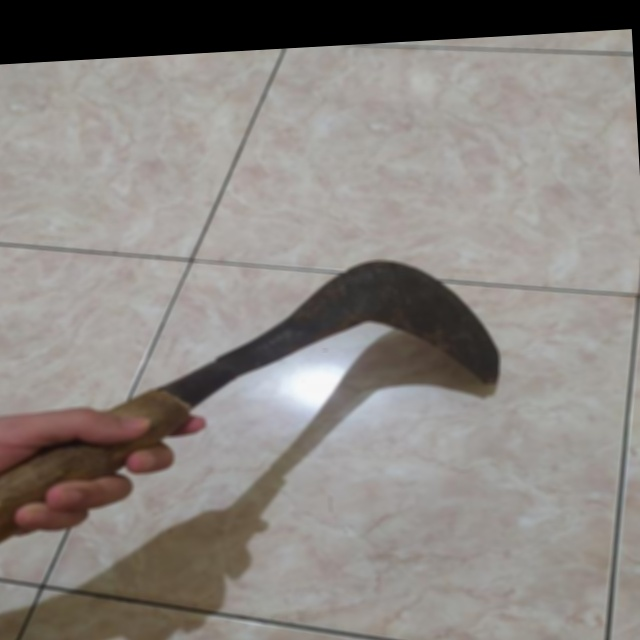Sharp-Object: (0, 242, 522, 574)
